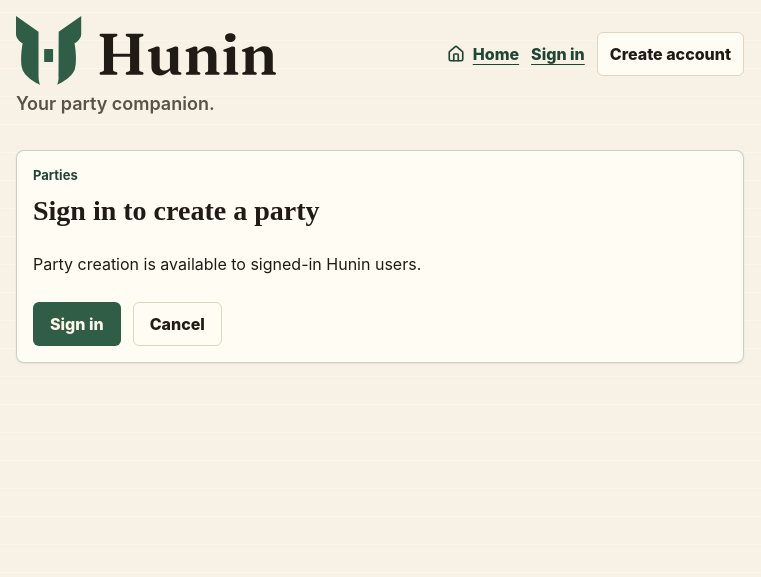
Test: App › preserves sign-in flow for the typed create Party destination
This screenshot has width=761, height=577.
Click the button "Sign in" below "Sign in to create a party". click: (77, 324)
box: top-left (33, 302), bottom-right (121, 346)
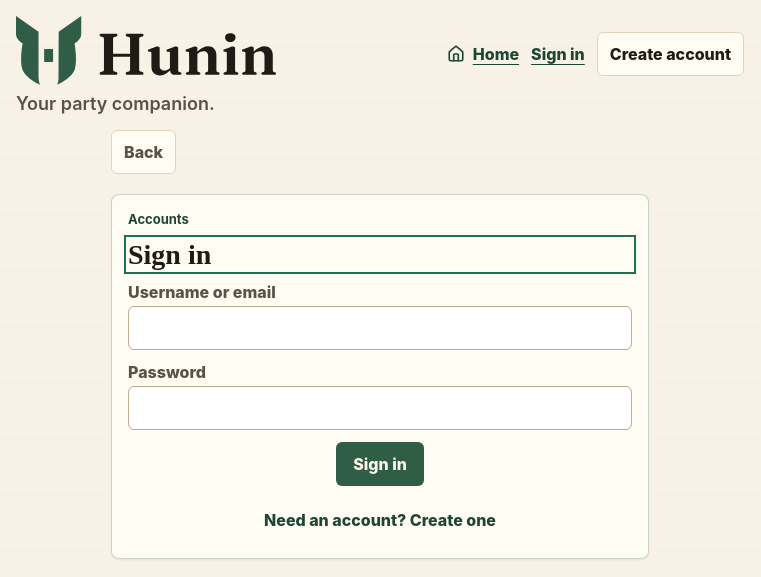
Type "Mara" into the field labelled "Username or email". click: (380, 328)
box: top-left (128, 306), bottom-right (632, 350)
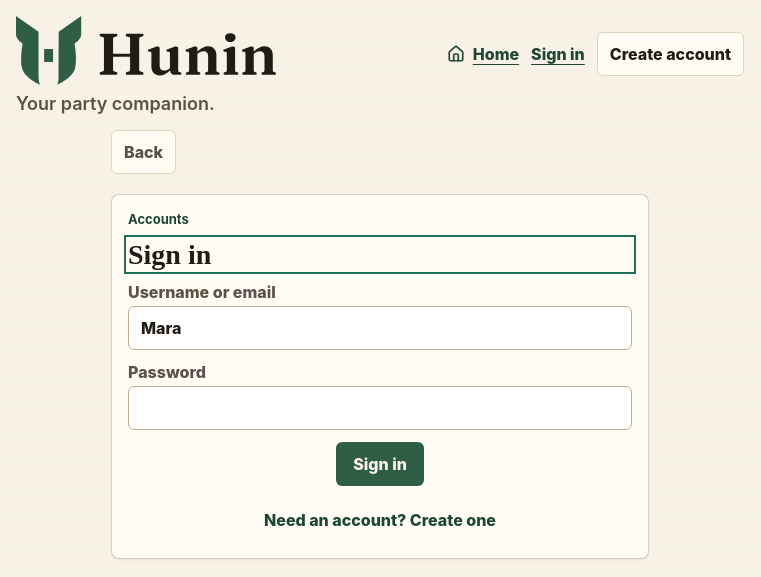
Type "Correct-horse-battery-staple1" into the password field labelled "Password". click: (380, 408)
box: top-left (128, 386), bottom-right (632, 430)
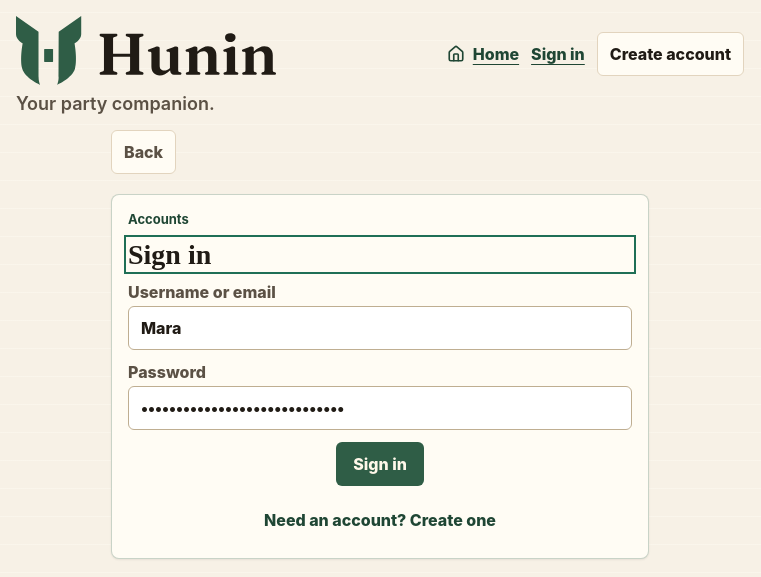
Click the button "Sign in" below "Password". click: (380, 464)
box: top-left (336, 442), bottom-right (424, 486)
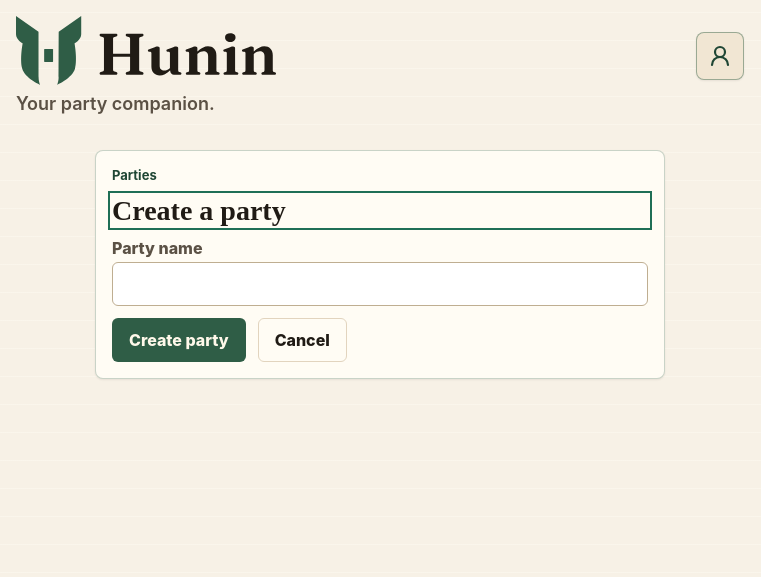
Check: the heading "Create a party" is shown, box top-left (112, 195), bottom-right (286, 226)
